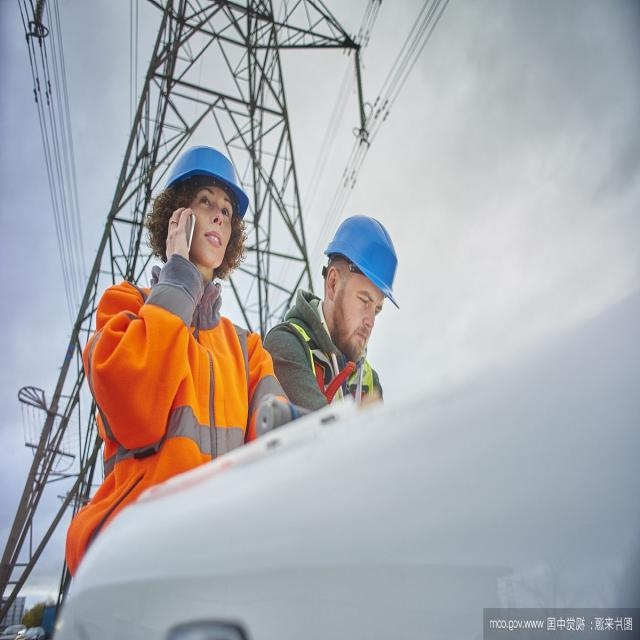Con_Casco: (156, 147, 245, 270), (323, 213, 397, 351)
